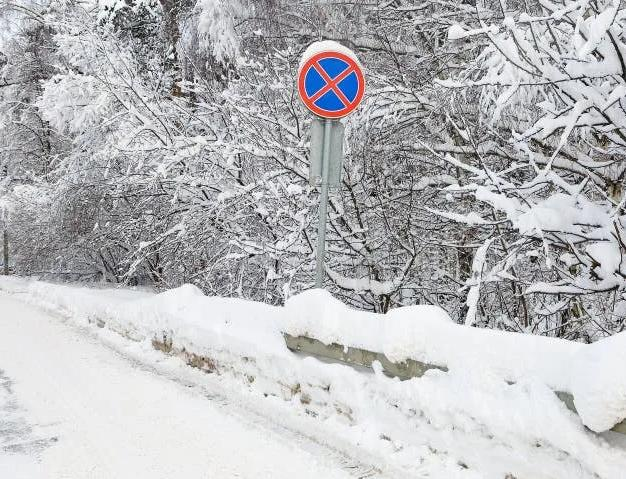road_sign: (297, 50, 364, 118)
